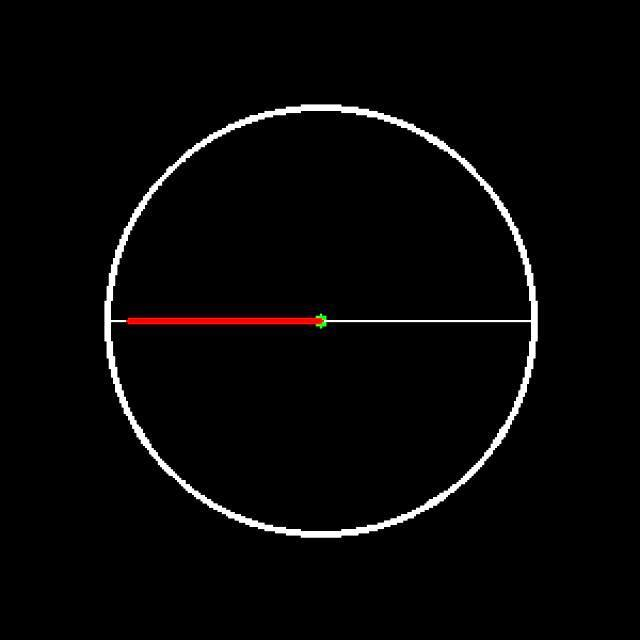Needle_Tip: (114, 295, 155, 341)
Needle_base: (284, 298, 357, 360)
